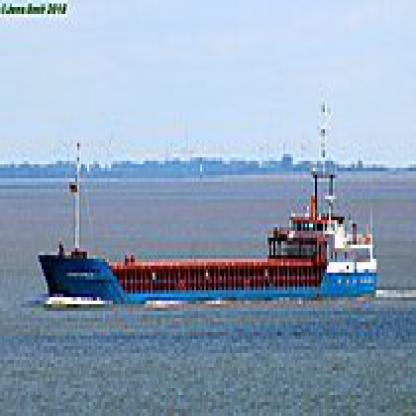Container Ship: (36, 95, 379, 307)
